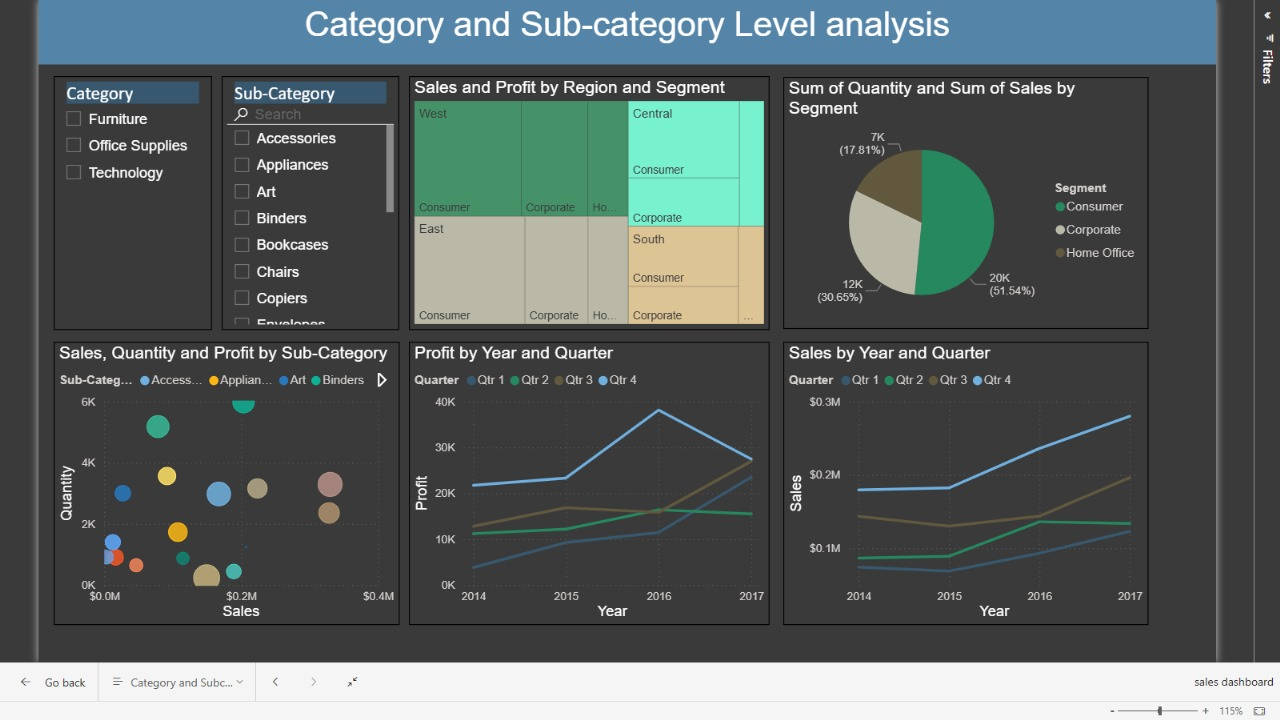

What the dashboard file says about the page in this screenshot:
{"tool":"powerbi","page":{"name":"Category and Subcategory","canvas":[1280,720],"ordinal":2},"visuals":[{"type":"textbox","box":[0,0,1280,69.9],"z":0},{"type":"slicer","fields":{"Values":["Orders.Category"]},"box":[16.7,82.2,172.2,275.6],"z":1000},{"type":"slicer","fields":{"Values":["Orders.Sub-Category"]},"box":[198.9,82.2,193.3,275.6],"z":2000},{"type":"treemap","fields":{"Values":["Sum(Orders.Sales)"],"Group":["Orders.Region"],"Details":["Orders.Segment"]},"box":[402.2,82.2,392.2,275.6],"z":3000},{"type":"pieChart","fields":{"Y":["Sum(Orders.Quantity)"],"Category":["Orders.Segment"]},"box":[810,83.3,396.7,274.4],"z":4000},{"type":"scatterChart","fields":{"Series":["Orders.Sub-Category"],"X":["Sum(Orders.Sales)"],"Y":["Sum(Orders.Quantity)"],"Size":["Sum(Orders.Profit)"]},"box":[16.7,371.1,375.6,307.8],"z":5000},{"type":"lineChart","fields":{"Category":["Orders.Year"],"Series":["Orders.Quarter"],"Y":["Sum(Orders.Profit)"]},"box":[402.2,371.1,392.2,307.8],"z":6000},{"type":"lineChart","fields":{"Category":["Orders.Year"],"Series":["Orders.Quarter"],"Y":["Sum(Orders.Sales)"]},"box":[810,371.1,396.7,307.8],"z":7000}]}

Visuals, with their boxes on the page's 1280x720 design canvas (x1, y1, x2, y2). These are canvas units, not pixel positions in the 1280x720 screenshot, which may show the page scaled, cropped or inside an application window:
textbox: (x1=0, y1=0, x2=1280, y2=70)
slicer - Orders.Category: (x1=17, y1=82, x2=189, y2=358)
slicer - Orders.Sub-Category: (x1=199, y1=82, x2=392, y2=358)
treemap - Sum(Orders.Sales) x Orders.Region: (x1=402, y1=82, x2=794, y2=358)
pieChart - Sum(Orders.Quantity) x Orders.Segment: (x1=810, y1=83, x2=1207, y2=358)
scatterChart - Orders.Sub-Category x Sum(Orders.Sales): (x1=17, y1=371, x2=392, y2=679)
lineChart - Orders.Year x Orders.Quarter: (x1=402, y1=371, x2=794, y2=679)
lineChart - Orders.Year x Orders.Quarter: (x1=810, y1=371, x2=1207, y2=679)
